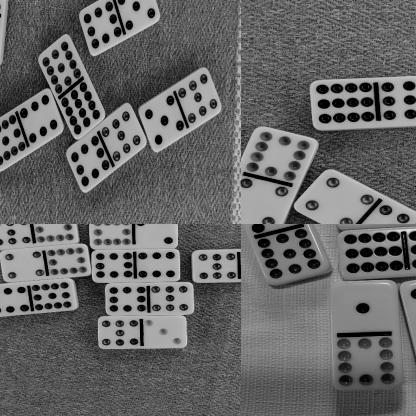pip-1: (329, 279, 398, 334)
pip-10: (244, 126, 316, 180), (330, 336, 402, 389), (45, 244, 91, 278), (88, 224, 133, 249), (32, 224, 79, 246)
pip-11: (255, 227, 328, 286), (37, 34, 80, 94), (31, 278, 77, 313), (0, 112, 24, 170)
pip-12: (308, 78, 378, 128), (341, 229, 405, 280), (61, 82, 105, 138)
pip-2: (132, 224, 177, 248)
pip-3: (141, 316, 187, 348)
pip-4: (293, 169, 374, 224), (241, 178, 287, 224), (0, 249, 44, 280)
pip-5: (138, 92, 184, 152), (117, 0, 159, 33), (398, 274, 416, 327)
pip-6: (19, 86, 62, 145), (134, 248, 180, 283), (0, 284, 30, 317)
pip-7: (102, 102, 147, 162), (177, 67, 221, 125), (190, 249, 238, 282), (148, 281, 193, 314), (97, 316, 141, 349), (357, 204, 416, 224), (0, 224, 31, 248)
pip-8: (65, 134, 110, 194), (77, 0, 120, 56), (91, 249, 135, 283), (104, 283, 148, 316)
pip-9: (379, 74, 416, 127)
